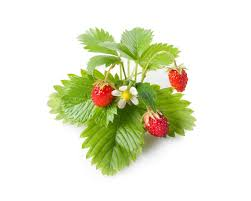Fresa: (140, 107, 173, 141), (164, 63, 191, 94), (89, 78, 116, 109)
